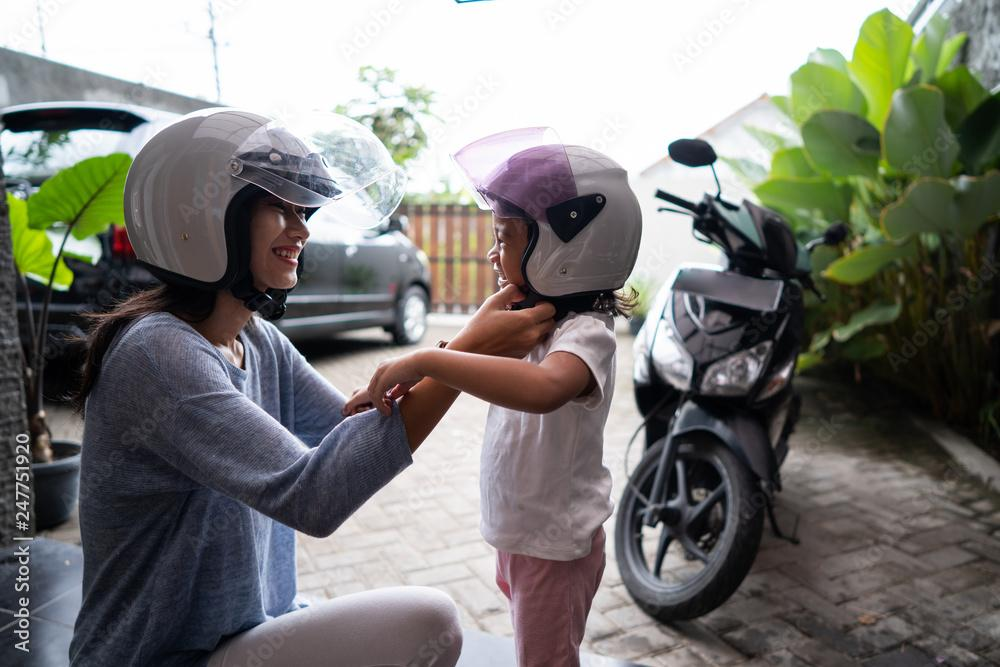helmet: (122, 104, 410, 324), (448, 123, 644, 323)
